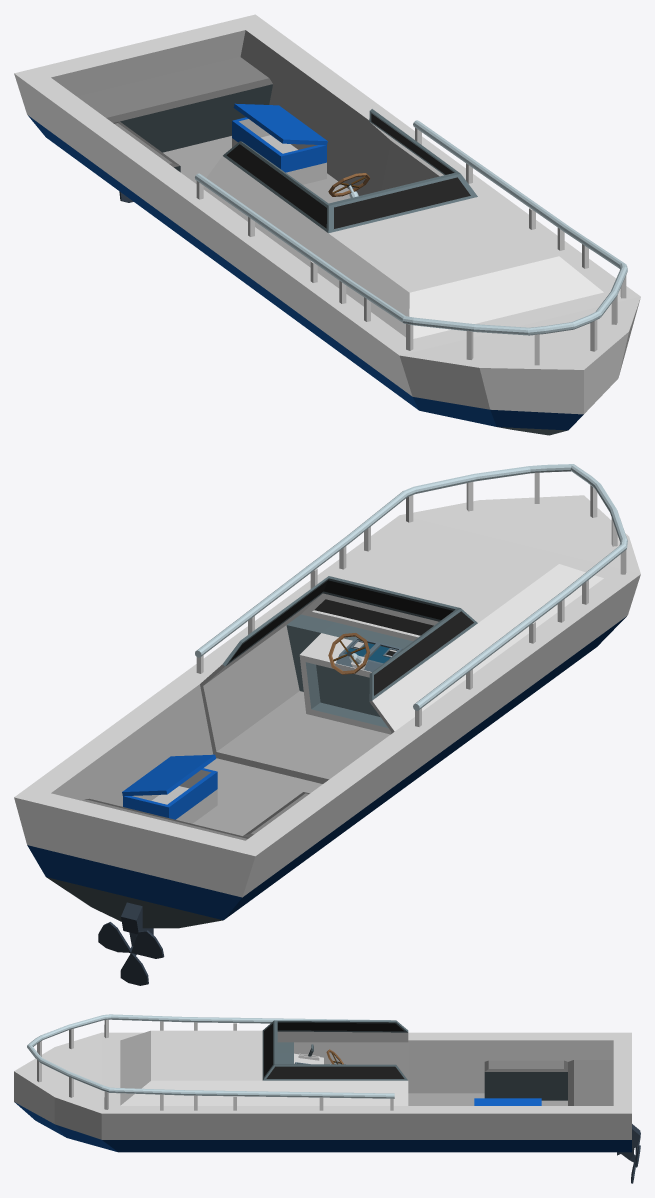
Rendered from XLarge_Ship.glb.
3 renders of one model, top to bottom at view 1: azimuth 30°, elevation 25°; view 2: azimuth 150°, elevation 25°; view 3: azimuth 270°, elevation 25°, orthographic. The views are drawn at different scales.
Parts seen in each view (by area): view 1: Speed_Boat; view 2: Speed_Boat; view 3: Speed_Boat.
Boxes of the visible parts, bbox=[...] form: Speed_Boat: bbox=[14, 14, 640, 435]; Speed_Boat: bbox=[14, 464, 640, 985]; Speed_Boat: bbox=[14, 1014, 640, 1183].
Size of the model in its own units: 2.23 by 1.78 by 7.28.
Materials: 1 (1 with a texture image).
